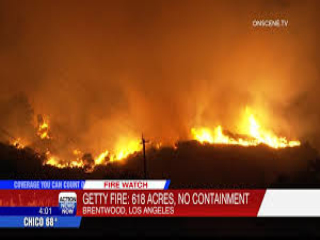fire: (14, 114, 153, 168), (188, 105, 295, 152)
